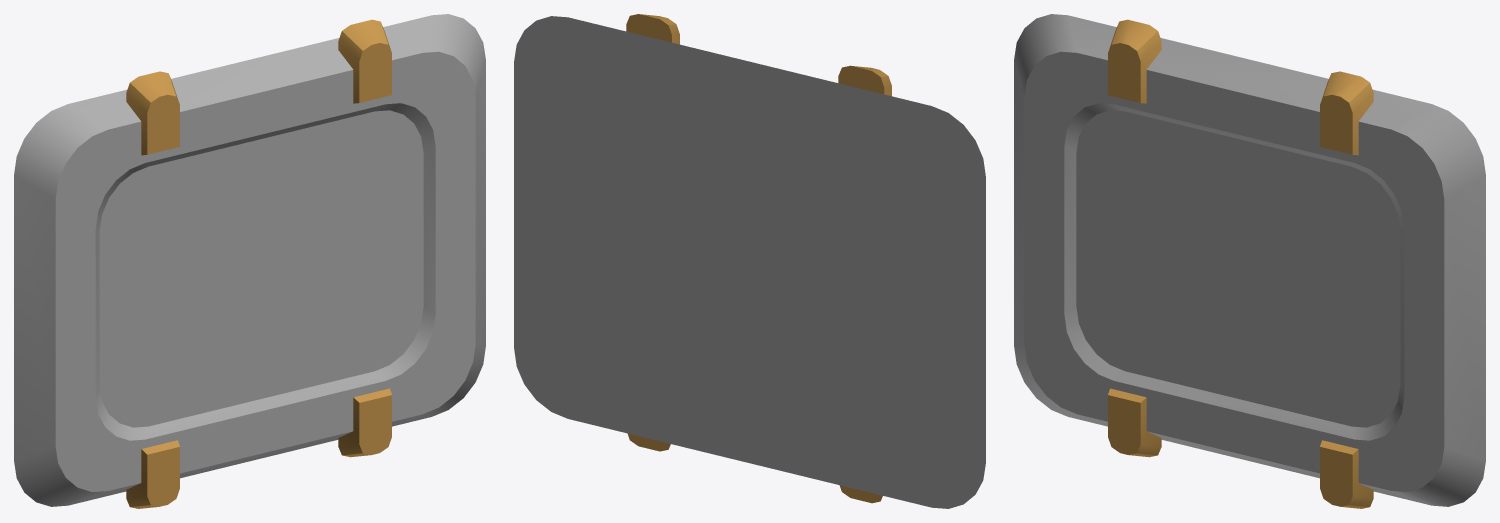
File: Details_Plate_Small.gltf
3 renders of one model, left to right at view 1: azimuth 30°, elevation 25°; view 2: azimuth 150°, elevation 25°; view 3: azimuth 330°, elevation 25°, orthographic.
Parts seen in each view (by area): view 1: Details_Plate_Small; view 2: Details_Plate_Small; view 3: Details_Plate_Small.
Part boxes in pixels (box(x1,y1,x2,y2)): Details_Plate_Small: box(14, 14, 485, 508); Details_Plate_Small: box(514, 14, 985, 508); Details_Plate_Small: box(1014, 14, 1485, 508).
Bounding box in the file's own units: 0.396 × 0.3466 × 0.0287.
